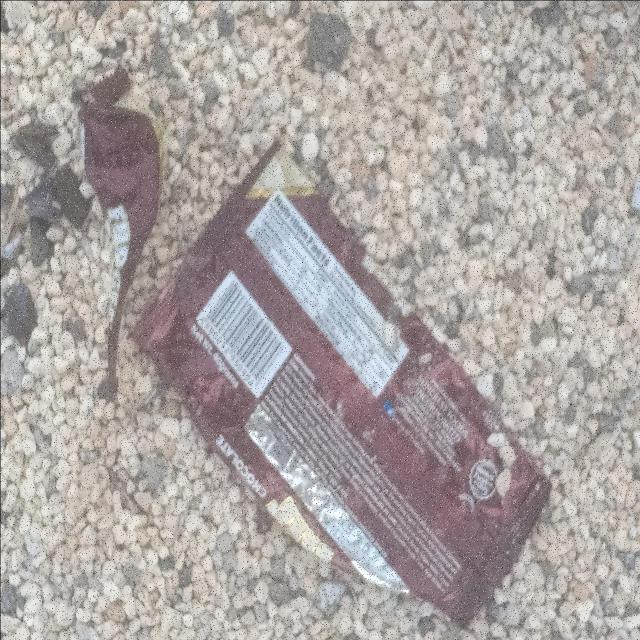plastic_waste: (127, 135, 555, 633)
